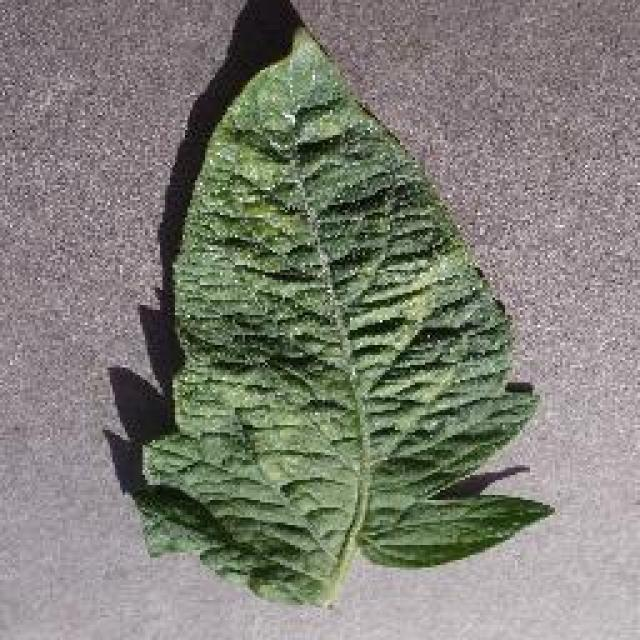Tomato mosaic virus leaf: (135, 26, 550, 604)
